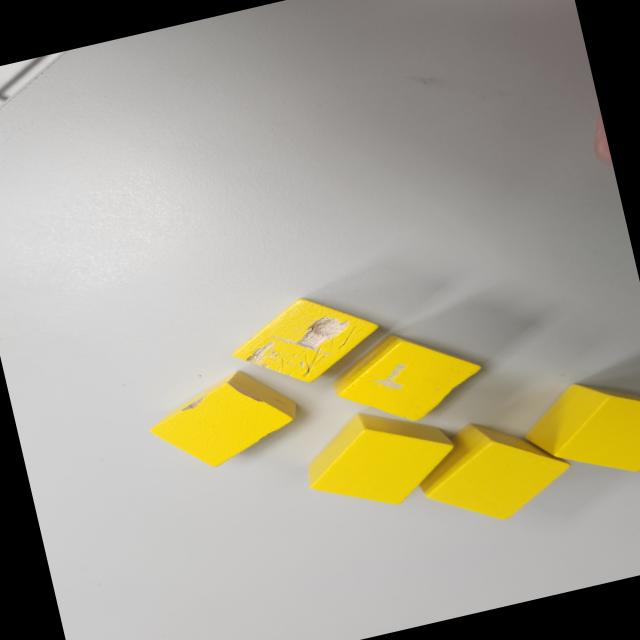broken: (323, 314, 493, 441), (218, 280, 389, 400), (140, 359, 307, 481)
yellow: (402, 402, 578, 538), (294, 392, 467, 526), (512, 361, 640, 494)
